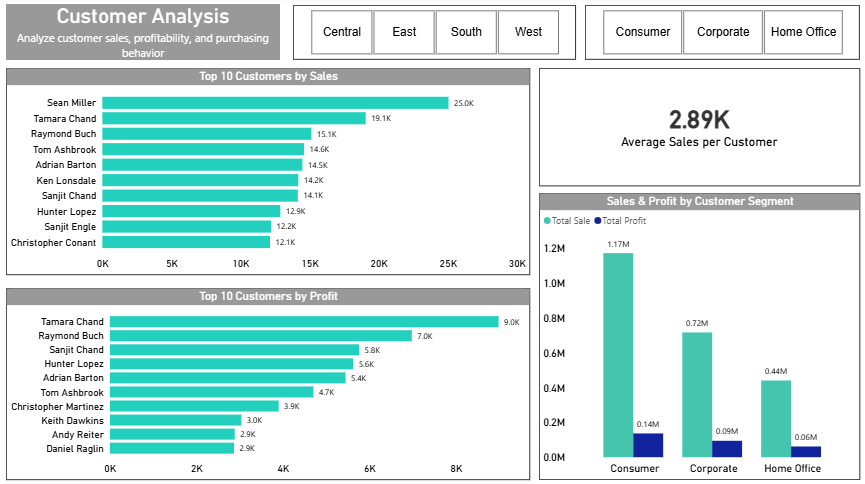

What the dashboard file says about the page in this screenshot:
{"tool":"powerbi","page":{"name":"Customer Analysis","canvas":[1280,720],"ordinal":1},"visuals":[{"type":"textbox","title":"Customer Analysis","box":[11.7,10.2,440.5,82],"z":0},{"type":"clusteredBarChart","title":"Top 10 Customers by Sales","fields":{"Category":["Orders.Customer Name"],"Y":["Orders.Total Sale"]},"box":[11.7,103.9,766.8,302.9],"z":1000},{"type":"clusteredBarChart","title":"Top 10 Customers by Profit","fields":{"Category":["Orders.Customer Name"],"Y":["Orders.Total Profit"]},"box":[11.7,425.9,766.8,281],"z":2000},{"type":"clusteredColumnChart","title":"Sales & Profit by Customer Segment","fields":{"Category":["Orders.Segment"],"Y":["Orders.Total Sale","Orders.Total Profit"]},"box":[791.7,286.8,469.8,420],"z":3000},{"type":"cardVisual","fields":{"Data":["Orders.Average Sales per Customer"]},"box":[791.7,103.9,469.8,172.7],"z":4000},{"type":"slicer","fields":{"Values":["Orders.Region"]},"box":[461.9,10.6,415.1,80],"z":5000},{"type":"slicer","fields":{"Values":["Orders.Segment"]},"box":[890.6,10.6,389.4,80],"z":6000}]}

Visuals, with their boxes in screenshot pixels (x1, y1, x2, y2), scaled from the page's 1280x720 canvas onto the 865x484 screenshot:
"Customer Analysis" textbox: {"x1": 8, "y1": 7, "x2": 306, "y2": 62}
"Top 10 Customers by Sales" clusteredBarChart: {"x1": 8, "y1": 70, "x2": 526, "y2": 273}
"Top 10 Customers by Profit" clusteredBarChart: {"x1": 8, "y1": 286, "x2": 526, "y2": 475}
"Sales & Profit by Customer Segment" clusteredColumnChart: {"x1": 535, "y1": 193, "x2": 852, "y2": 475}
cardVisual - Orders.Average Sales per Customer: {"x1": 535, "y1": 70, "x2": 852, "y2": 186}
slicer - Orders.Region: {"x1": 312, "y1": 7, "x2": 593, "y2": 61}
slicer - Orders.Segment: {"x1": 602, "y1": 7, "x2": 864, "y2": 61}
